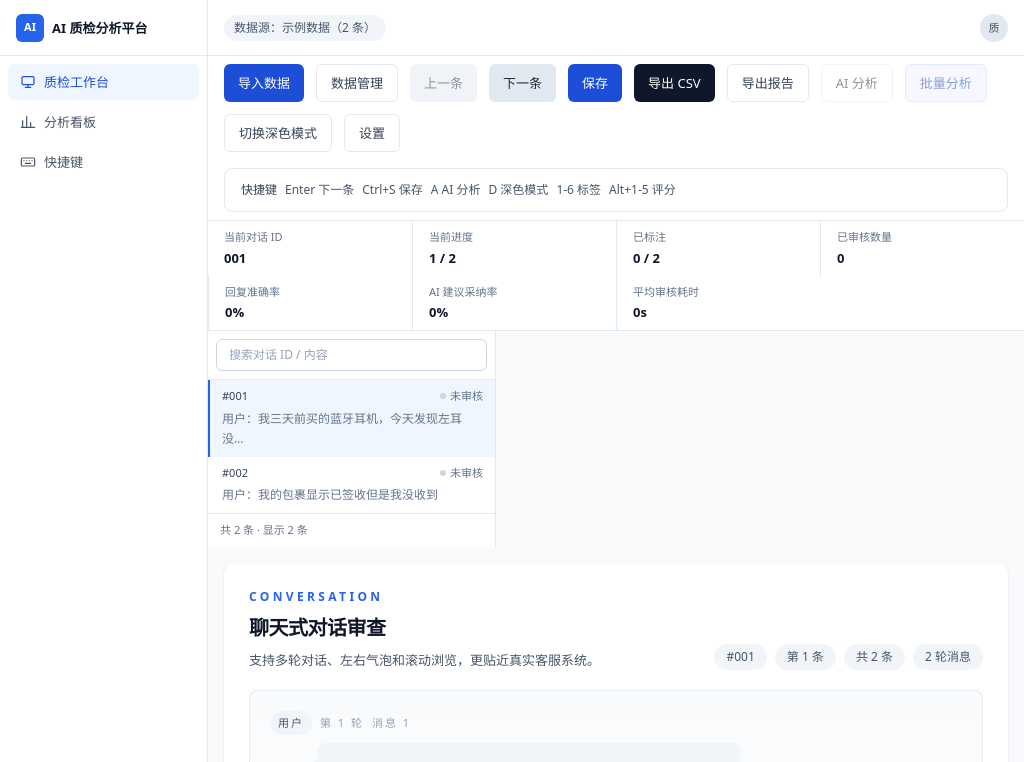
导入流程 › 点击「导入数据」→ 懒加载的导入弹窗出现并停留在「选择文件」步骤
Check: the button "导出报告" is shown, box [727, 64, 809, 102]
Check: the heading "导入对话数据" is not shown
Click the button "导入数据": coordinates (264, 83) [224, 64, 304, 102]
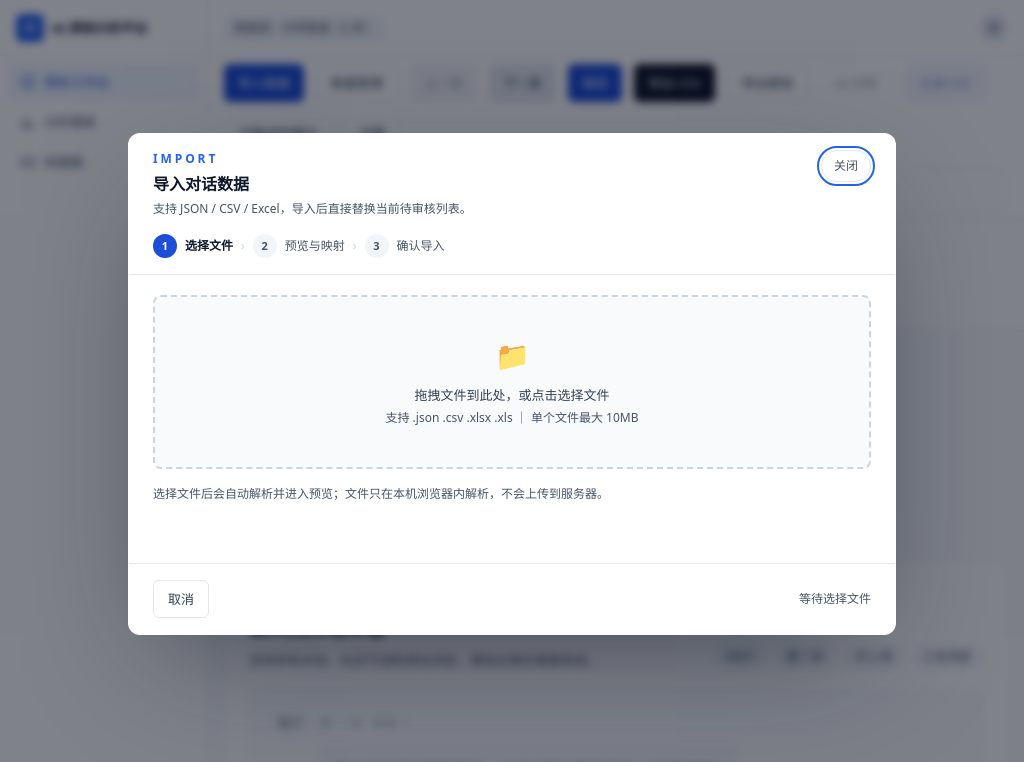
Check: the text "选择文件" is shown, box [185, 237, 233, 255]
Check: the text "拖拽文件到此处，或点击选择文件" is shown, box [414, 386, 610, 404]
Check: the button "取消" is shown, box [153, 580, 209, 618]
